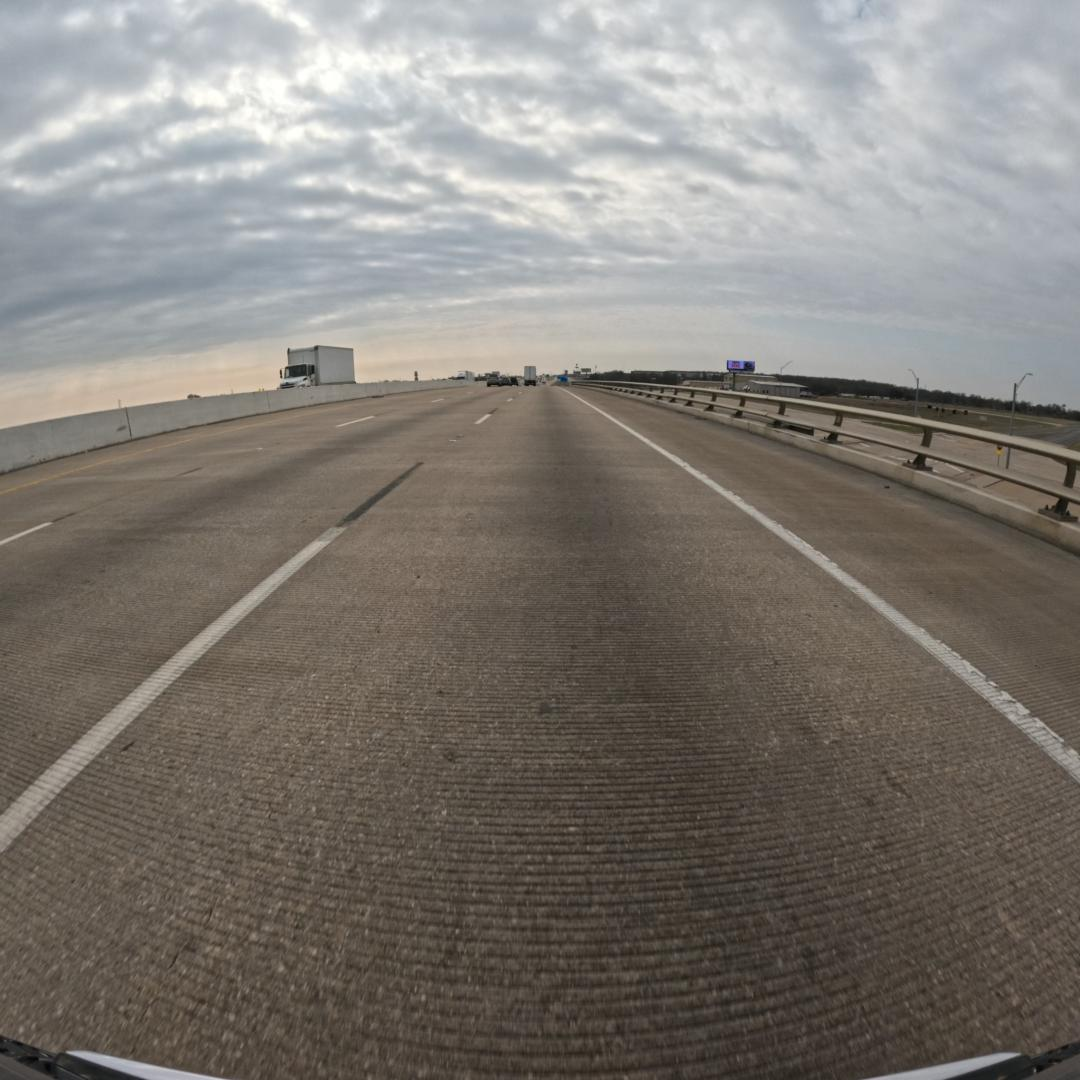lane0: (0, 388, 1080, 1077)
lane1: (0, 391, 506, 851)
